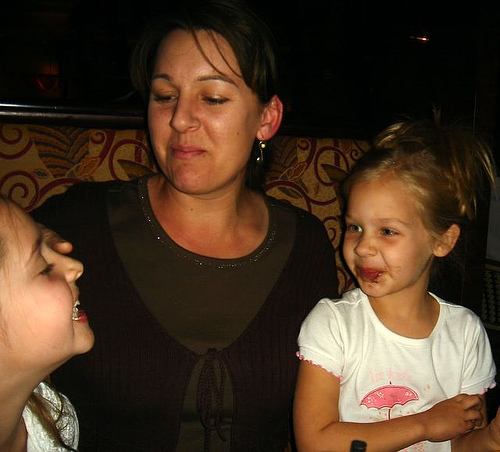without_mask: (140, 26, 287, 193), (343, 149, 468, 299), (2, 204, 105, 377)
